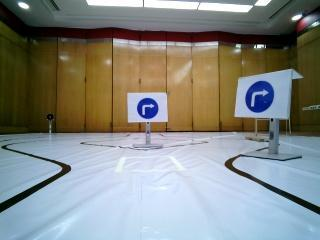right: (240, 80, 290, 117), (125, 90, 171, 120)
